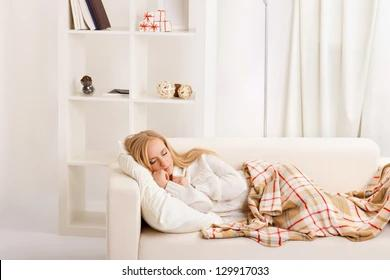blanket: (200, 158, 390, 247)
sweater: (162, 153, 252, 226)
